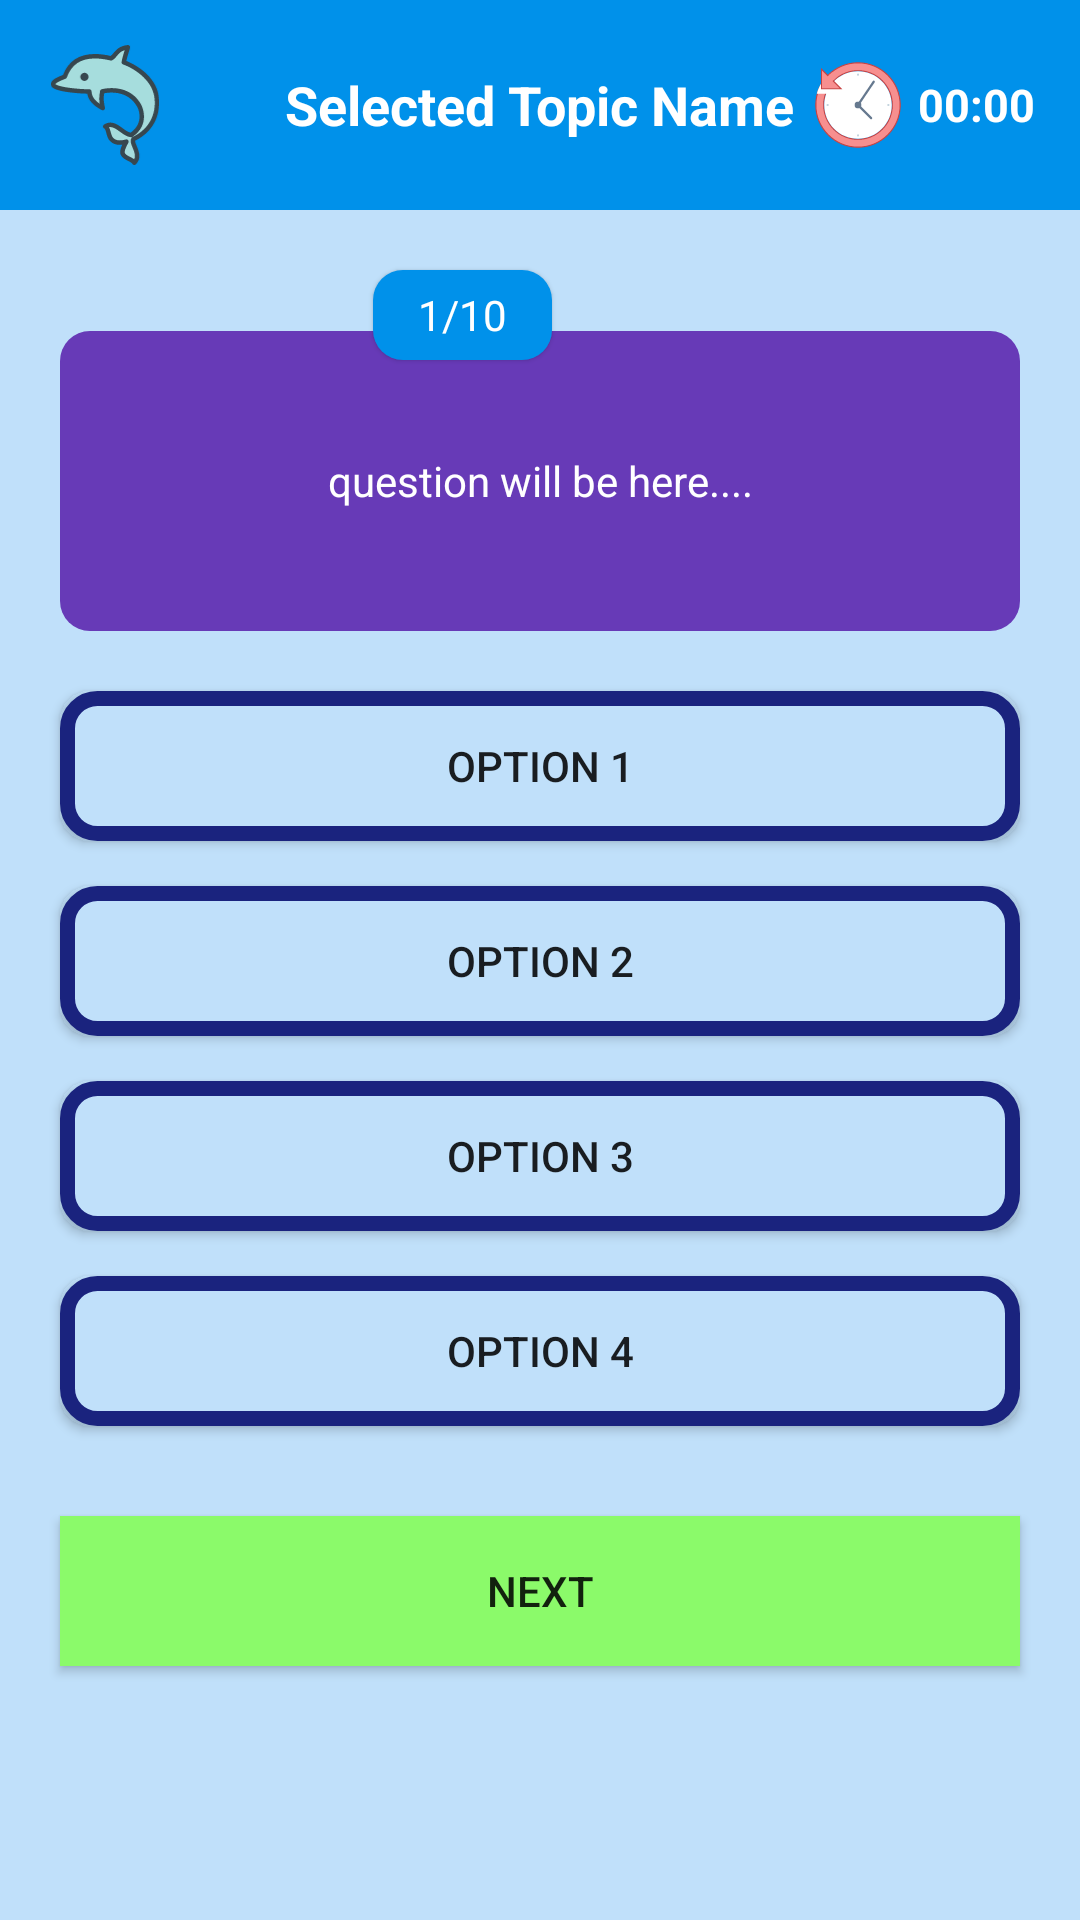

Screen size 1080px x 1920px. Icon name, then its center in pixels as (x,y):
past: (858,105)
